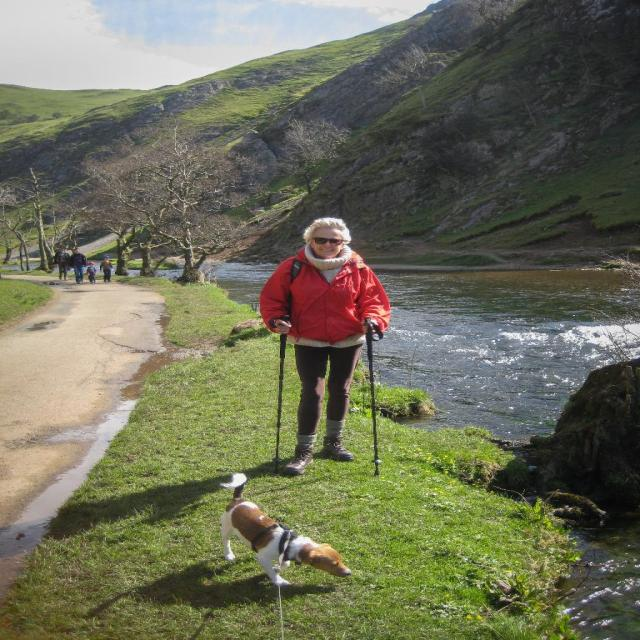Dog: (215, 472, 348, 586)
